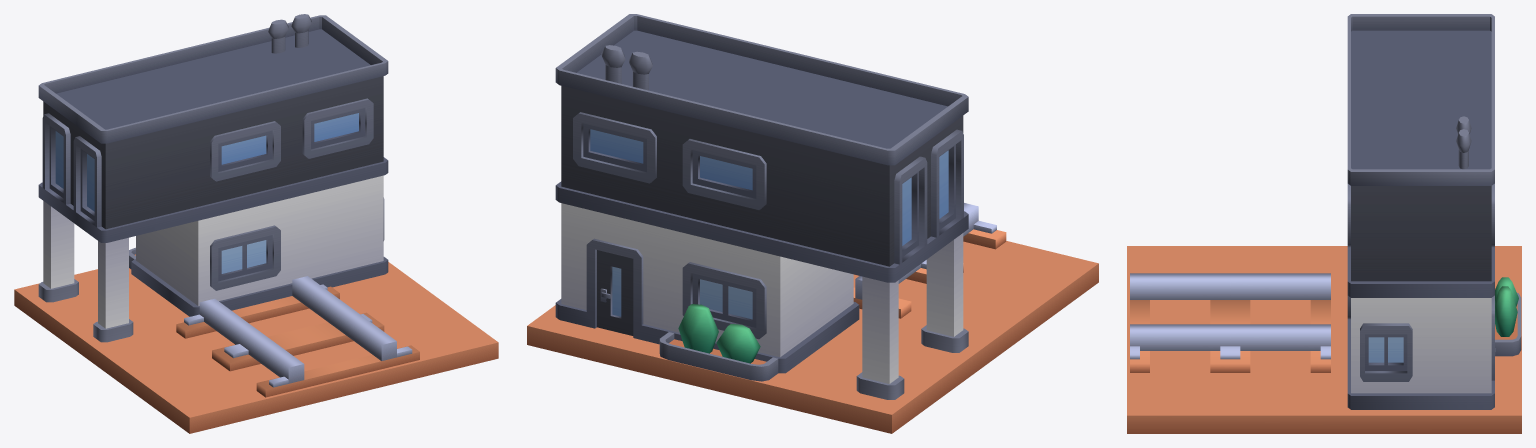
Rendered from station.glb.
The picture shows the model from 3 angles, left to right: view 1: azimuth 30°, elevation 25°; view 2: azimuth 150°, elevation 25°; view 3: azimuth 270°, elevation 25°; orthographic projection. The views are drawn at different scales.
Parts seen in each view (by area): view 1: building-type-p, tile-dirt, track-detailed; view 2: building-type-p, tile-dirt, track-detailed; view 3: building-type-p, tile-dirt, track-detailed.
Part boxes in pixels (x1,y1,x2,y2): building-type-p: (38, 14, 388, 342); tile-dirt: (14, 262, 498, 433); track-detailed: (176, 276, 419, 397); building-type-p: (555, 14, 968, 399); tile-dirt: (527, 241, 1098, 433); track-detailed: (853, 203, 1006, 318); building-type-p: (1347, 14, 1521, 409); tile-dirt: (1127, 246, 1521, 433); track-detailed: (1130, 273, 1330, 372).
Size of the model in its own units: 2 by 1.51 by 1.97.
3 materials, 3 textured.
